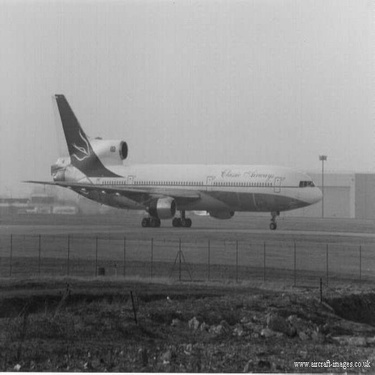airplane: (16, 84, 328, 236)
